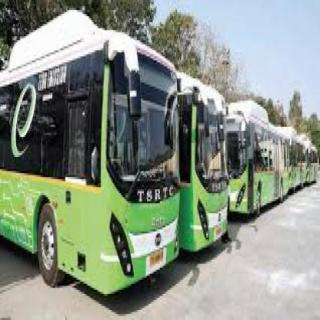Normal_vehicle: (4, 10, 181, 310), (232, 86, 319, 242), (177, 52, 231, 264)
